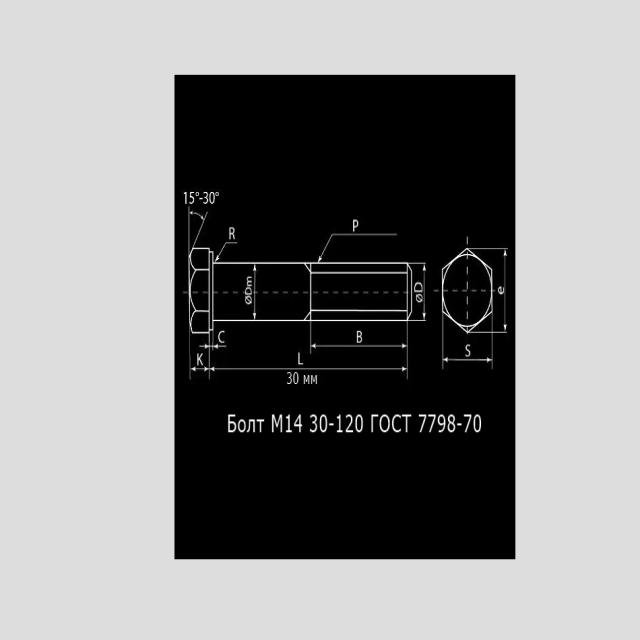marking_line: (211, 367, 407, 373), (311, 341, 406, 351), (185, 212, 210, 248), (502, 250, 510, 333), (251, 266, 259, 319), (422, 263, 428, 321), (443, 357, 492, 364), (198, 345, 229, 352), (190, 367, 209, 375), (197, 353, 206, 369)
numeric: (309, 410, 367, 438), (271, 410, 306, 440), (286, 371, 320, 388), (201, 189, 220, 206), (182, 191, 199, 209), (296, 350, 307, 365), (217, 329, 227, 345), (355, 328, 365, 344), (463, 340, 473, 356), (412, 281, 424, 293), (228, 225, 236, 241), (352, 219, 360, 232)
special_symbol: (315, 231, 346, 260), (215, 243, 240, 262), (414, 294, 426, 305), (243, 296, 253, 306)
